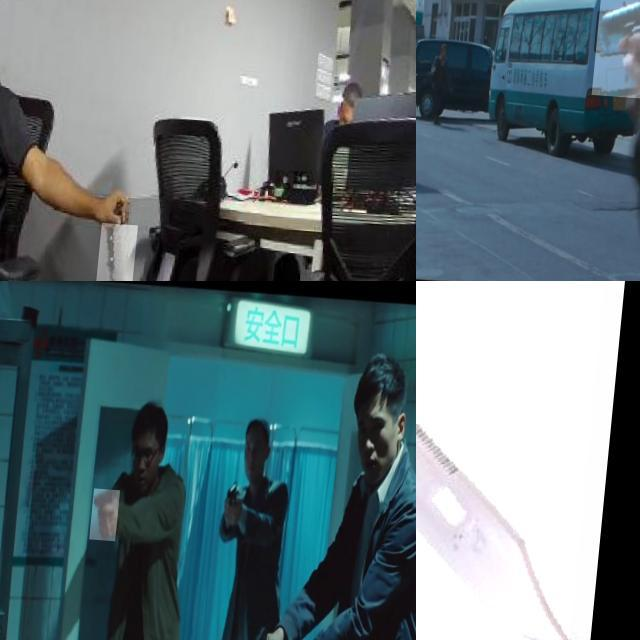-: (416, 281, 640, 640), (104, 218, 148, 281)
gun-knife-thesis - v11 Yolov5 augmented: (599, 0, 640, 93), (96, 486, 126, 538), (239, 619, 286, 640), (228, 475, 246, 523)
